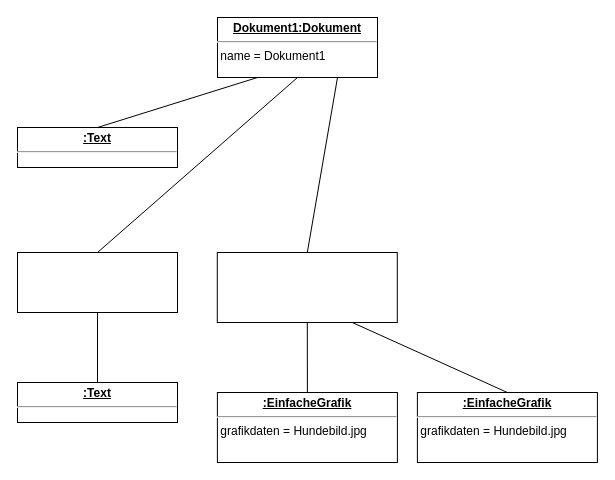
Image size: 615x480. Some labels were removed from this diagram. The centre of each missing label's shape, as x and y in pixels:
":ZusammengesetzteGrafik größe = 500 position = 0" goes at pixel 306 287.
"Dokument2:Dokument name = Dokument2" goes at pixel 97 282.
